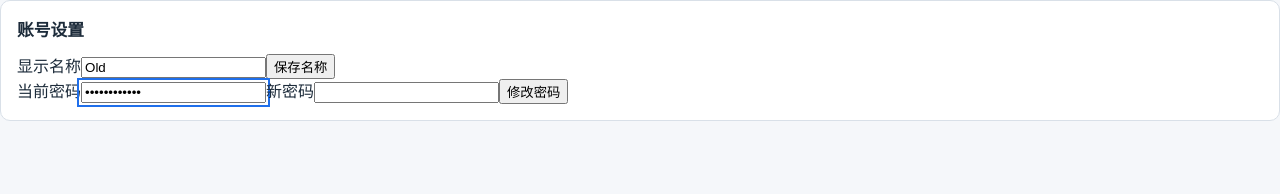
ProfilePanel › changes password and clears the fields
Earlier steps of the test are not shown.
Step 1. Type "new-password" into the password field labelled "新密码" → (406, 93), box [314,82,499,103]
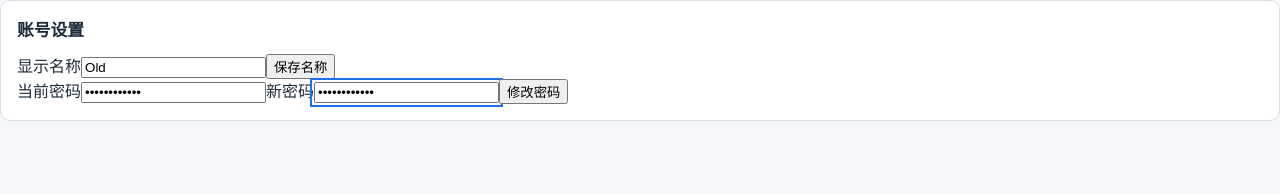
Step 2. Click the button "修改密码" → (534, 92), box [499,79,568,104]
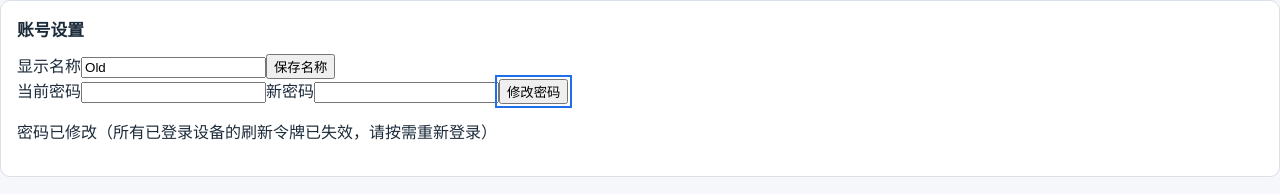
Expected: the message shows "密码已修改", [17,121,497,143]
Expected: the password field labelled "当前密码" is empty, [81,82,266,103]
